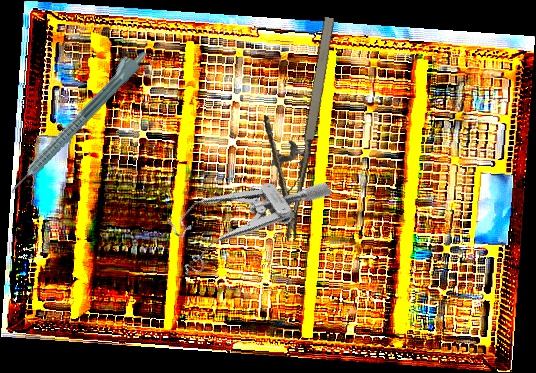Handpiece: (0, 42, 151, 198)
Needle Holder: (240, 8, 342, 243)
Speculum: (153, 132, 334, 290)
